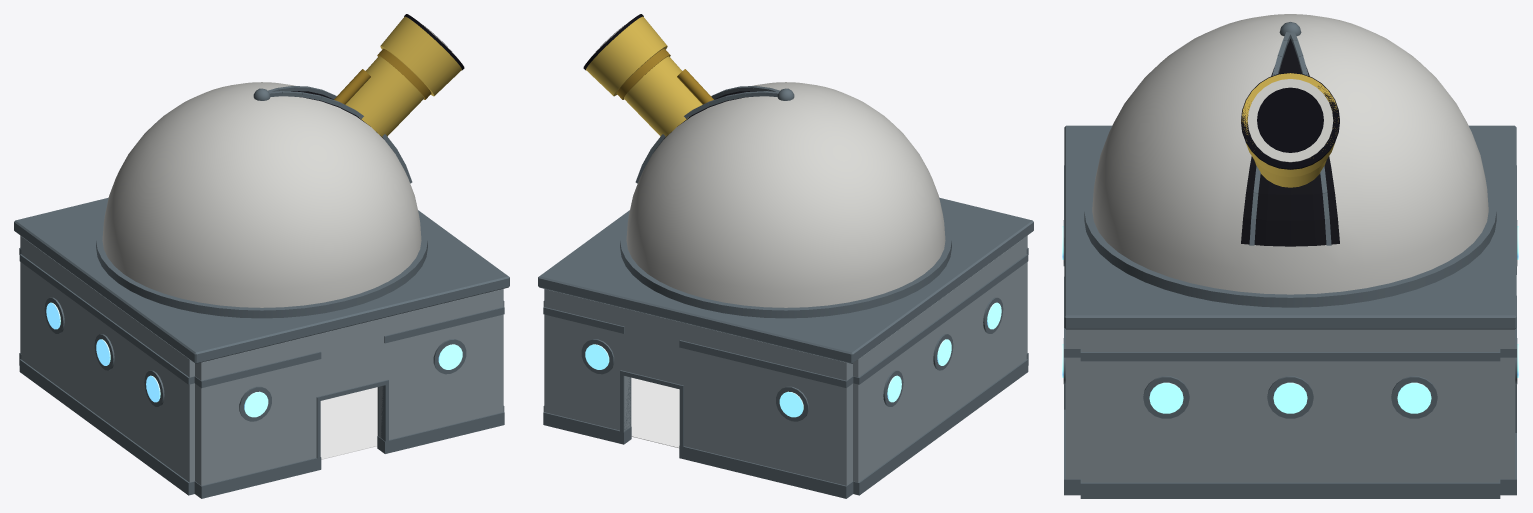
File: tf-observatory.glb
3 views of the same model, side by side, from view 1: azimuth 30°, elevation 25°; view 2: azimuth 150°, elevation 25°; view 3: azimuth 270°, elevation 25° (orthographic). The views are drawn at different scales.
Visible parts, largest first — view 1: tf-observatory; view 2: tf-observatory; view 3: tf-observatory.
Boxes of the visible parts, box(x1,y1,x2,y2) form: tf-observatory: box(14, 14, 509, 498); tf-observatory: box(538, 14, 1033, 498); tf-observatory: box(1062, 14, 1518, 498).
Bounding box in the file's own units: 16.38 × 15.05 × 14.72.
